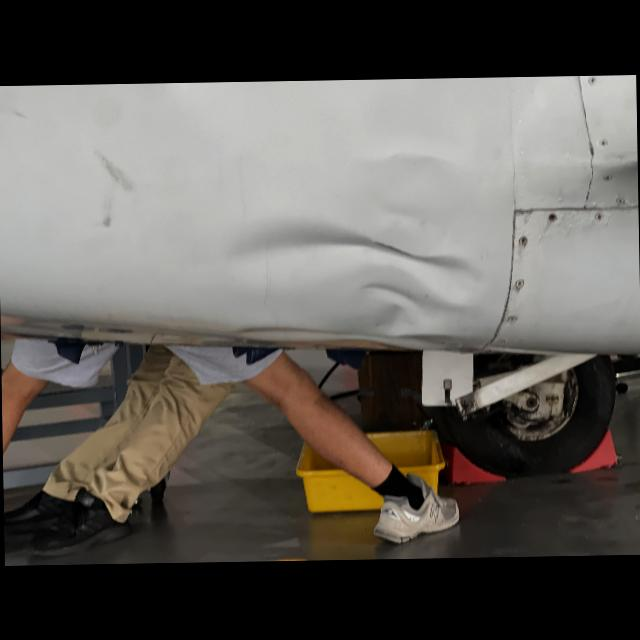dent: (227, 204, 490, 352)
